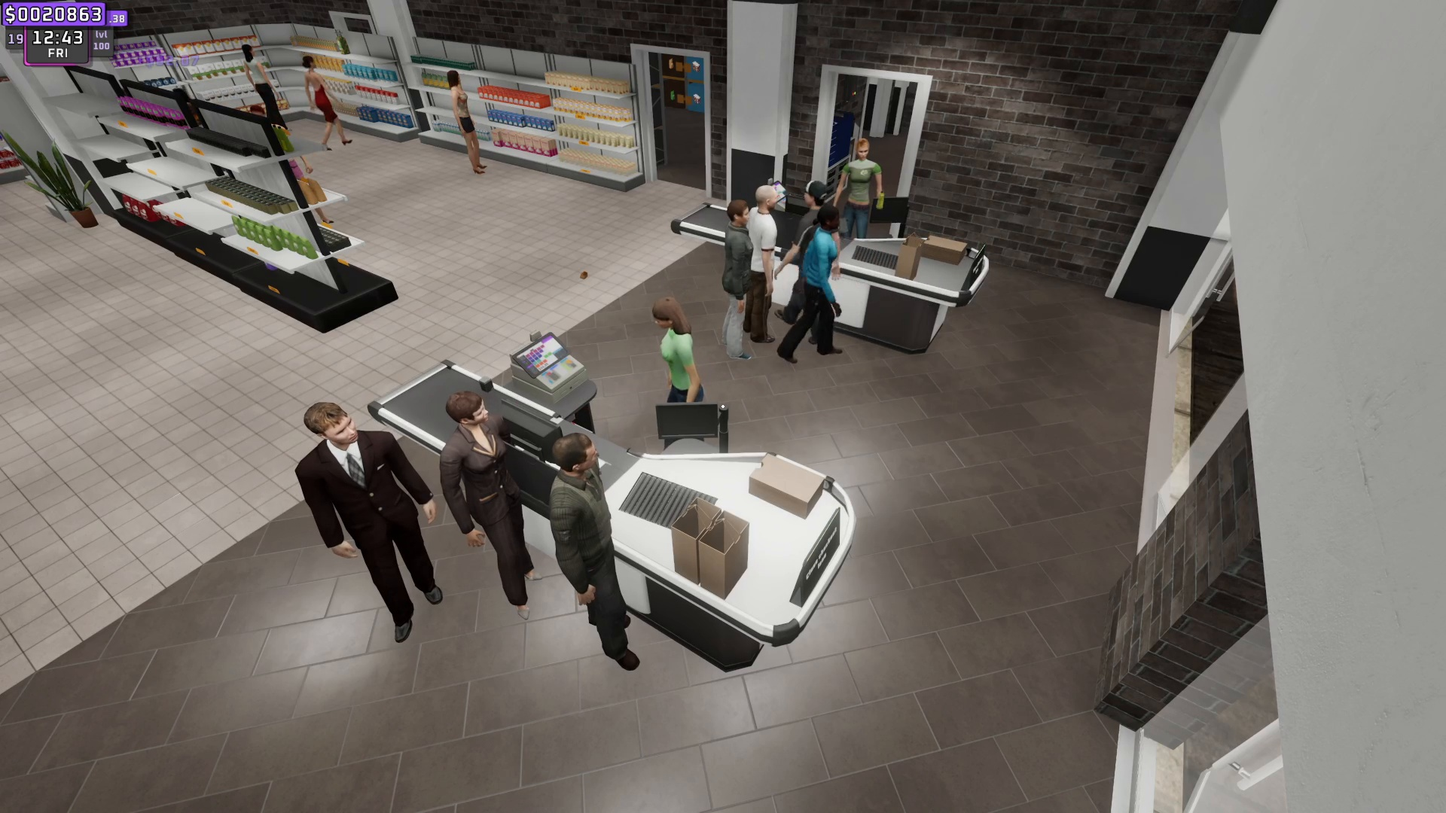Client: (270, 386, 443, 637), (547, 430, 650, 672), (448, 390, 538, 611), (794, 178, 830, 333), (747, 184, 779, 349), (716, 200, 749, 356), (809, 209, 842, 356)
Employee: (652, 299, 707, 401)
